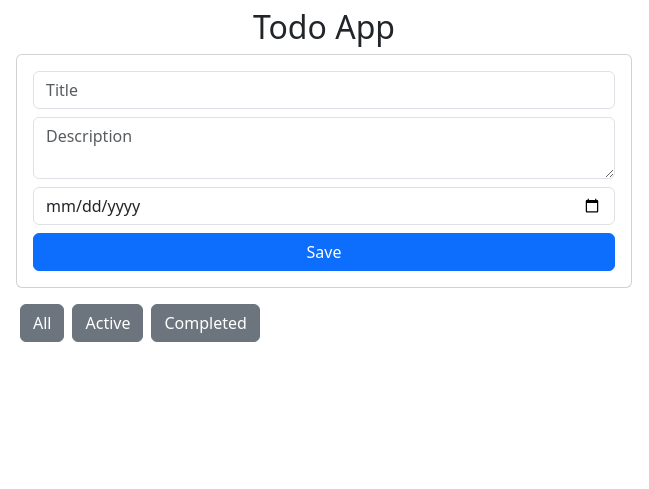
TodoList Component › adds a new todo
Type "Test Todo" into the field with placeholder "Title" at (324, 90), box x1=33 y1=71 x2=615 y2=109
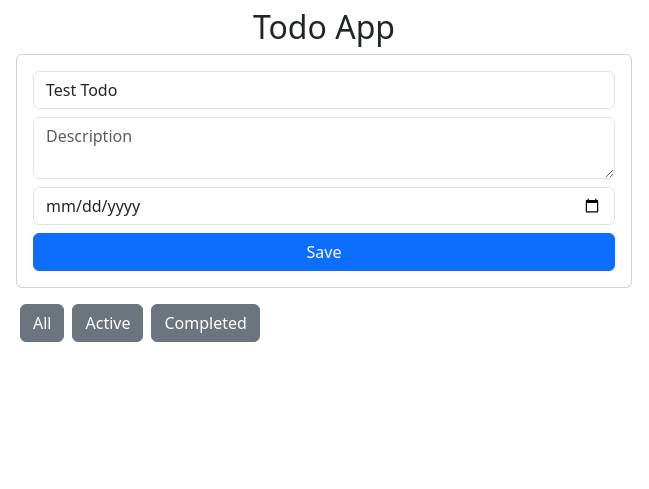
Click the button "Save" at (324, 252), box x1=33 y1=233 x2=615 y2=271
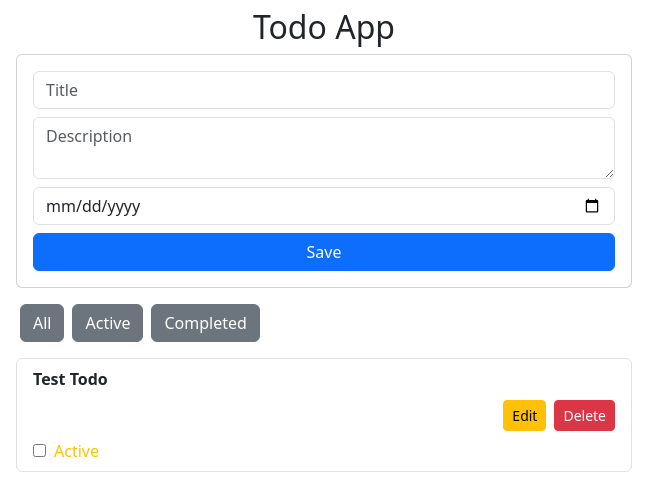
Result: the text "Test Todo" is shown at x1=33 y1=368 x2=108 y2=390
